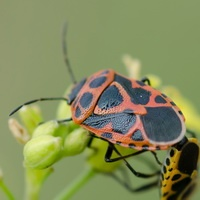insect: (8, 24, 198, 199), (31, 99, 72, 122), (125, 150, 162, 173)
